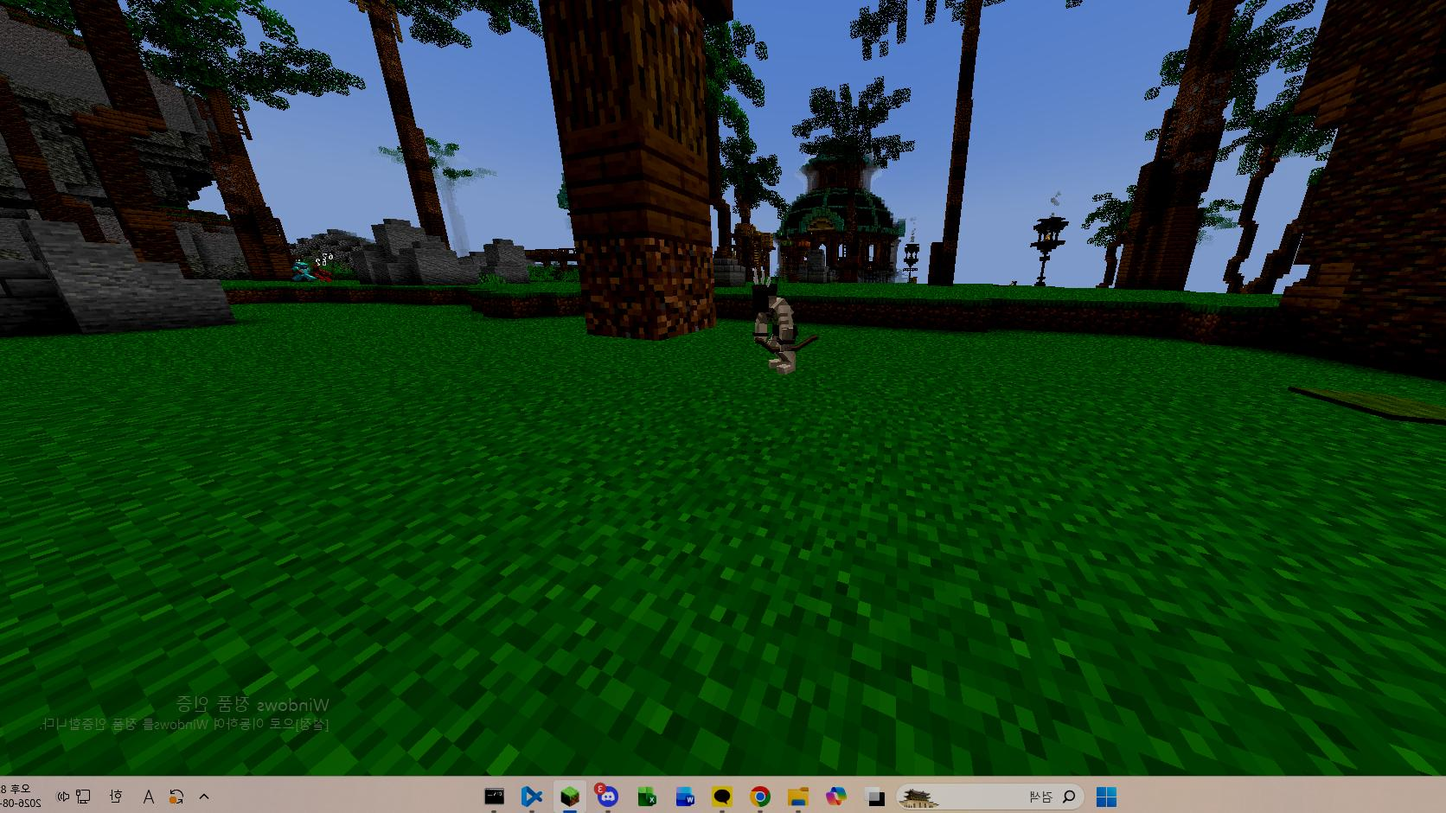bow_indian: (740, 264, 840, 385)
